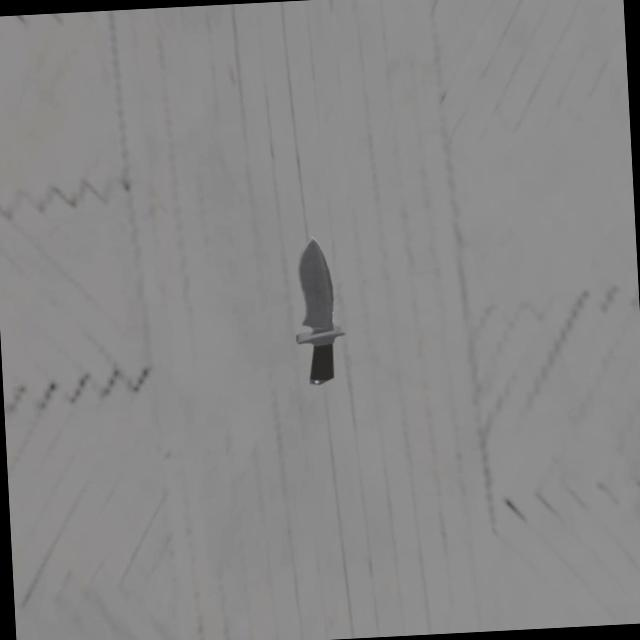knife: (306, 341, 336, 395)
